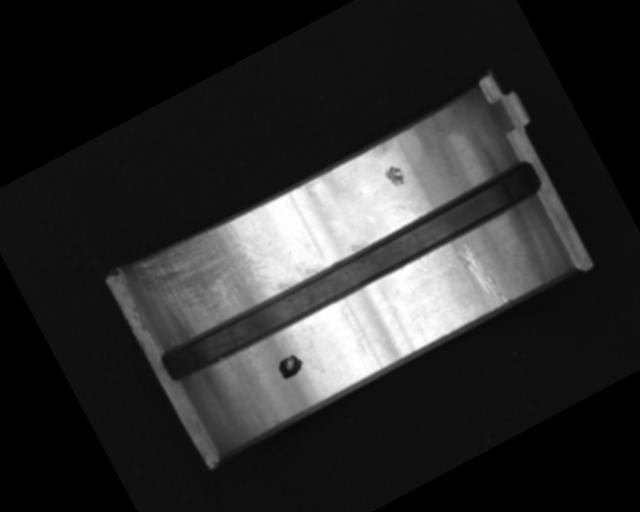blot: (273, 350, 308, 382)
bruise: (380, 160, 411, 192)
gap: (154, 154, 548, 390)
nick: (453, 237, 512, 316)
scratch: (125, 200, 295, 352)
